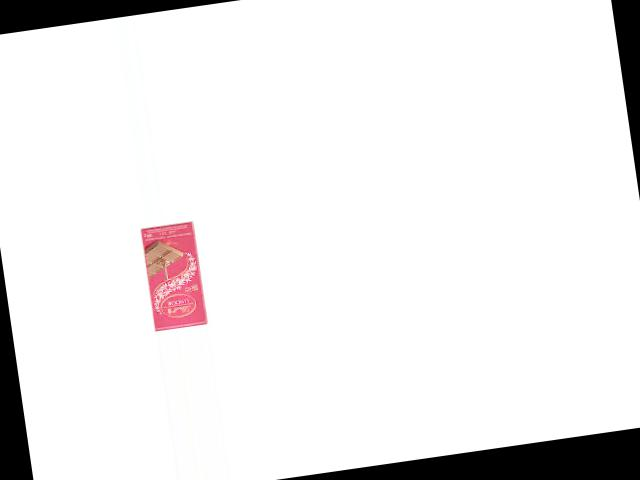chocolate: (135, 221, 209, 331)
